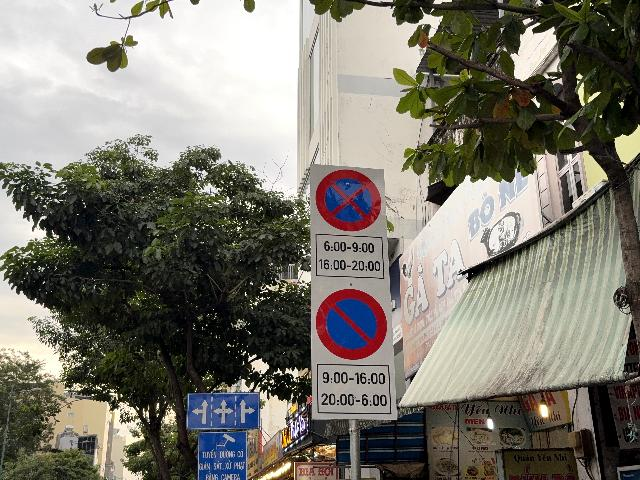cam-do-xe: (316, 288, 387, 360)
cam-dung-va-do-xe: (315, 169, 381, 231)
